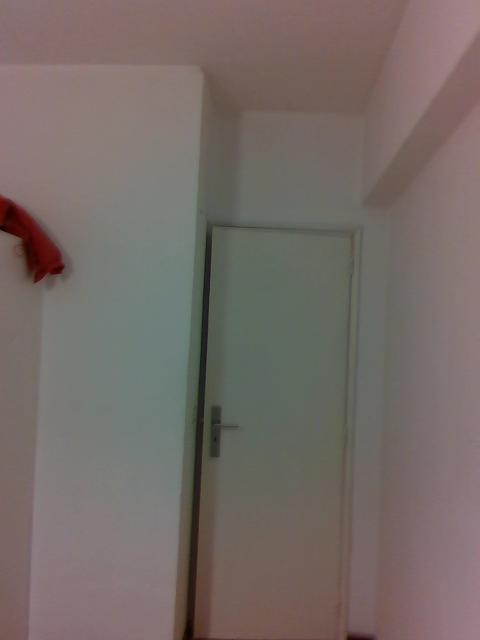door: (196, 226, 351, 632)
